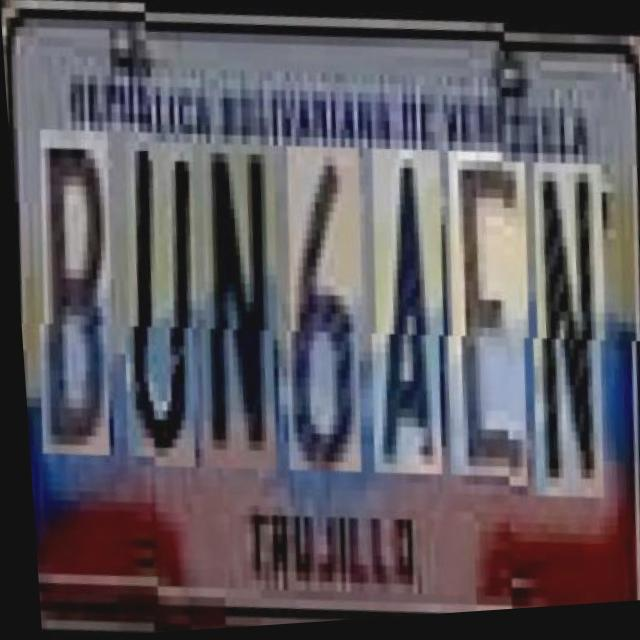6: (274, 140, 375, 473)
a: (360, 143, 455, 475)
b: (29, 134, 123, 466)
e: (435, 144, 540, 478)
n: (189, 138, 290, 471), (521, 146, 616, 487)
u: (113, 137, 208, 469)
